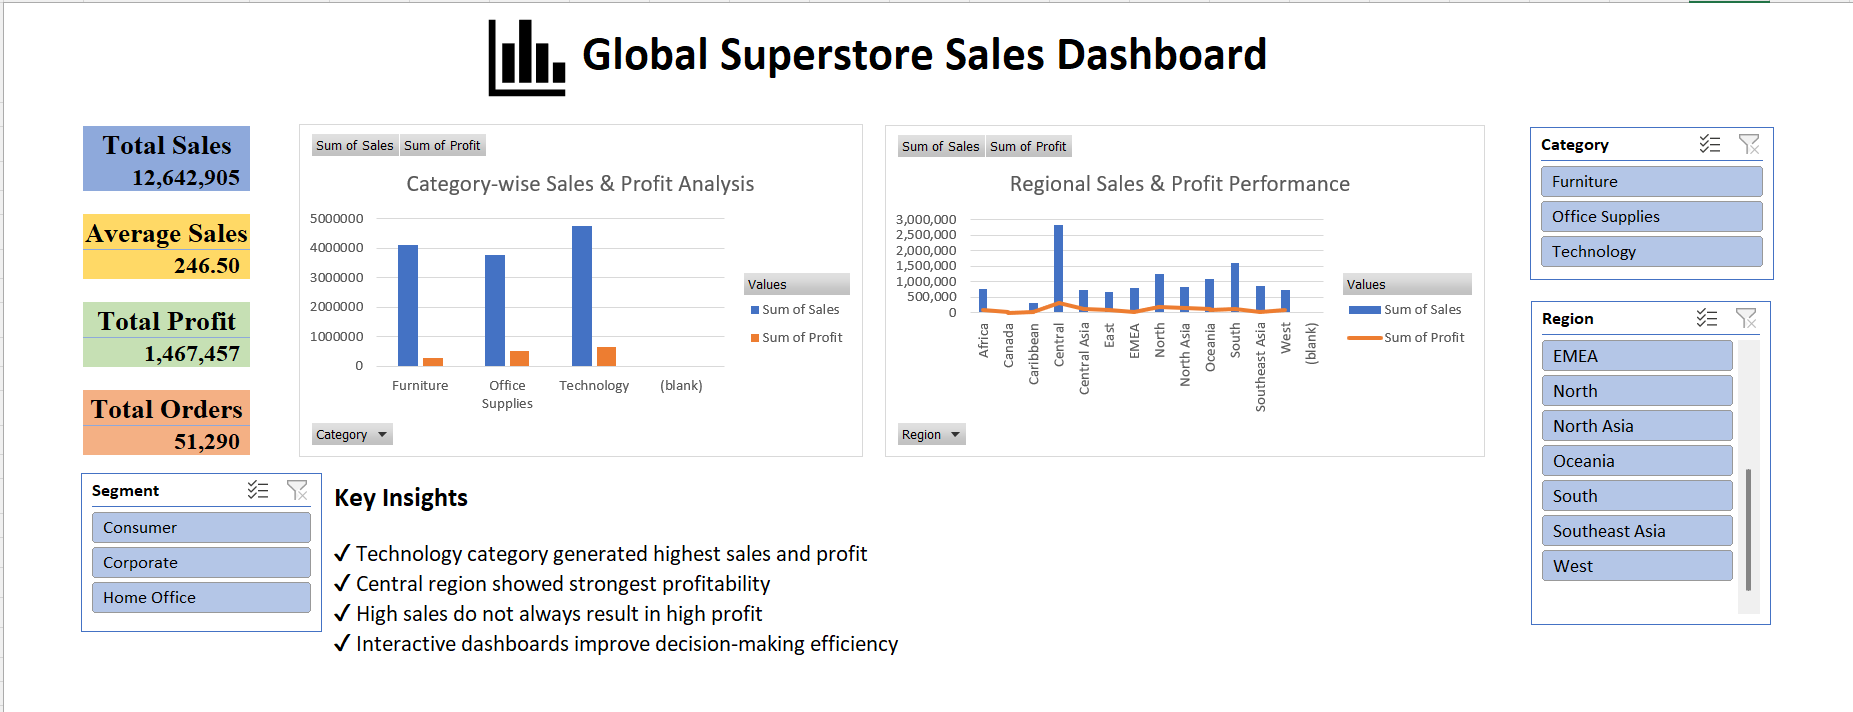

What the dashboard file says about the page in this screenshot:
{"tool":"powerbi","page":{"name":"Sales Analysis Dashboard","canvas":[1280,720],"ordinal":1},"visuals":[{"type":"textbox","box":[107.6,36.7,1085.9,89.3],"z":0},{"type":"cardVisual","fields":{"Data":["Dim_Category.Total Sales"]},"box":[73.4,159,207.9,149.2],"z":1000},{"type":"cardVisual","fields":{"Data":["Dim_Category.Total Profit"]},"box":[351,159,189.5,150.4],"z":2000},{"type":"cardVisual","fields":{"Data":["Dim_Category.Total Orders"]},"box":[642,159,189.5,150.4],"z":3000},{"type":"cardVisual","fields":{"Data":["Dim_Category.Average Sales"]},"box":[933,159,172.4,150.4],"z":4000},{"type":"clusteredColumnChart","title":" Sales by Category","fields":{"Y":["Dim_Category.Total Sales"],"Category":["Dim_Category.Category"]},"box":[28.1,331.4,373,273.9],"z":5000},{"type":"clusteredColumnChart","title":" Sales by Region","fields":{"Y":["Dim_Category.Total Sales"],"Category":["Dim_Region.Region"]},"box":[424.3,336.3,465.9,273.9],"z":6000},{"type":"lineChart","title":"Monthly Sales Trend","fields":{"Y":["Dim_Category.Total Sales"],"Category":["Date Table.Month"]},"box":[906.1,336.3,343.6,262.9],"z":7000},{"type":"image","box":[310.6,23.2,149.2,73.4],"z":8000}]}

Visuals, with their boxes on the page's 1280x720 design canvas (x1, y1, x2, y2). These are canvas units, not pixel positions in the 1853x712 screenshot, which may show the page scaled, cropped or inside an application window:
textbox: {"x1": 108, "y1": 37, "x2": 1194, "y2": 126}
cardVisual - Dim_Category.Total Sales: {"x1": 73, "y1": 159, "x2": 281, "y2": 308}
cardVisual - Dim_Category.Total Profit: {"x1": 351, "y1": 159, "x2": 540, "y2": 309}
cardVisual - Dim_Category.Total Orders: {"x1": 642, "y1": 159, "x2": 832, "y2": 309}
cardVisual - Dim_Category.Average Sales: {"x1": 933, "y1": 159, "x2": 1105, "y2": 309}
" Sales by Category" clusteredColumnChart: {"x1": 28, "y1": 331, "x2": 401, "y2": 605}
" Sales by Region" clusteredColumnChart: {"x1": 424, "y1": 336, "x2": 890, "y2": 610}
"Monthly Sales Trend" lineChart: {"x1": 906, "y1": 336, "x2": 1250, "y2": 599}
image: {"x1": 311, "y1": 23, "x2": 460, "y2": 97}
